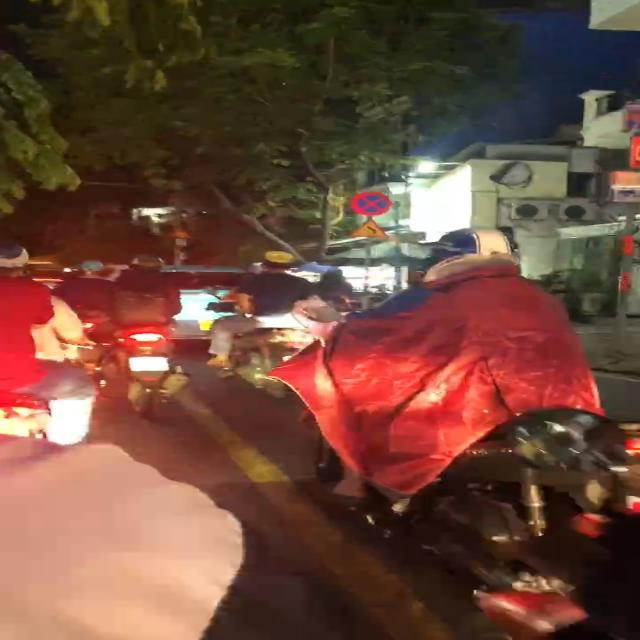Bien bao cam dung xe va do xe: (348, 189, 399, 216)
Bien bao cho ngoat nguy hiem: (344, 215, 389, 239)
